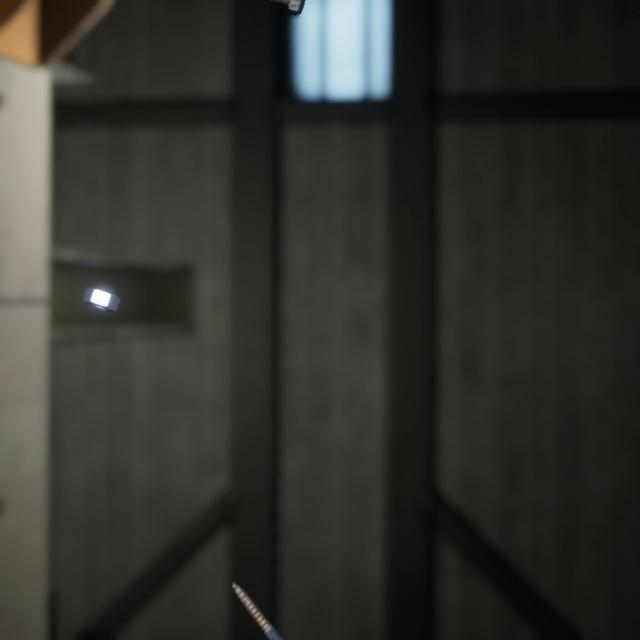bolt: (227, 553, 309, 640)
nut: (78, 265, 124, 299)
